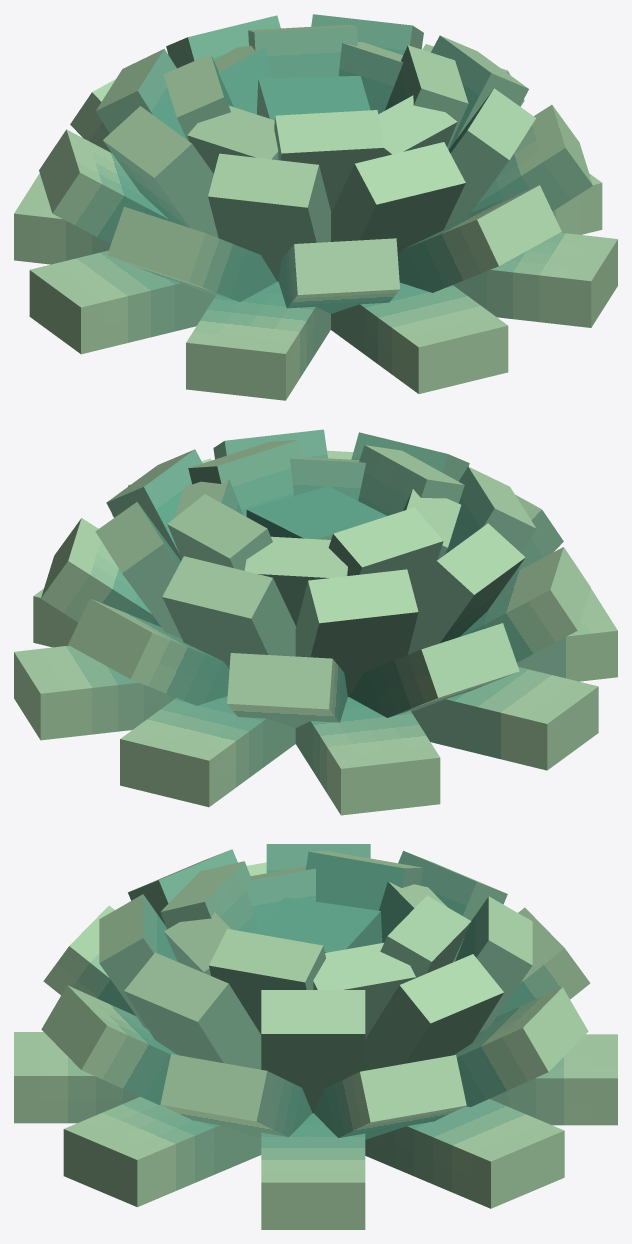
The model's file is Echeveria Succulent.gltf.
3 renders of one model, top to bottom at view 1: azimuth 30°, elevation 25°; view 2: azimuth 150°, elevation 25°; view 3: azimuth 270°, elevation 25°, orthographic.
Visible parts, largest first — view 1: cube (×29); view 2: cube (×29); view 3: cube (×28).
Part boxes in pixels (x1=…): cube (×29): x1=14, y1=14, x2=617, y2=400; cube (×29): x1=14, y1=429, x2=617, y2=815; cube (×28): x1=14, y1=844, x2=617, y2=1229.
Bounding box in the file's own units: 0.3625 × 0.1361 × 0.3625.
Materials: 1 (1 with a texture image).
